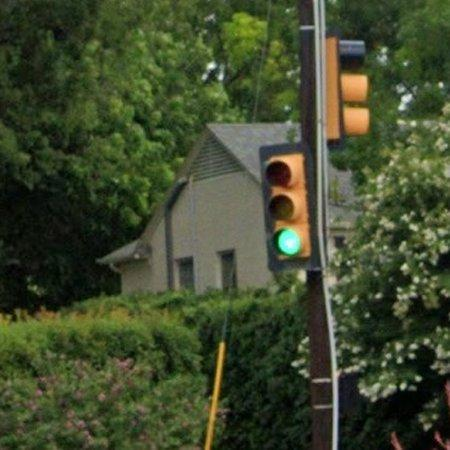traffic lights: (257, 142, 320, 272), (325, 32, 372, 146)
